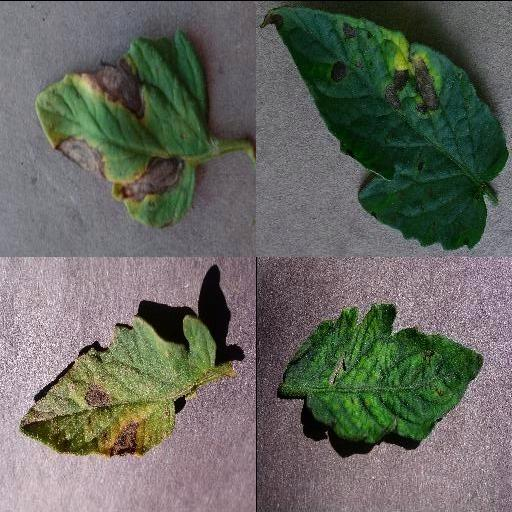Early Blight: (259, 4, 511, 250), (32, 24, 212, 228), (18, 313, 218, 458)
Mosaic Virus: (282, 301, 486, 445)
